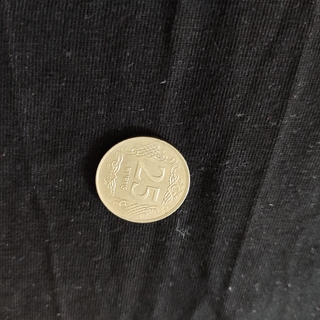25KURUS: (93, 134, 191, 224)
